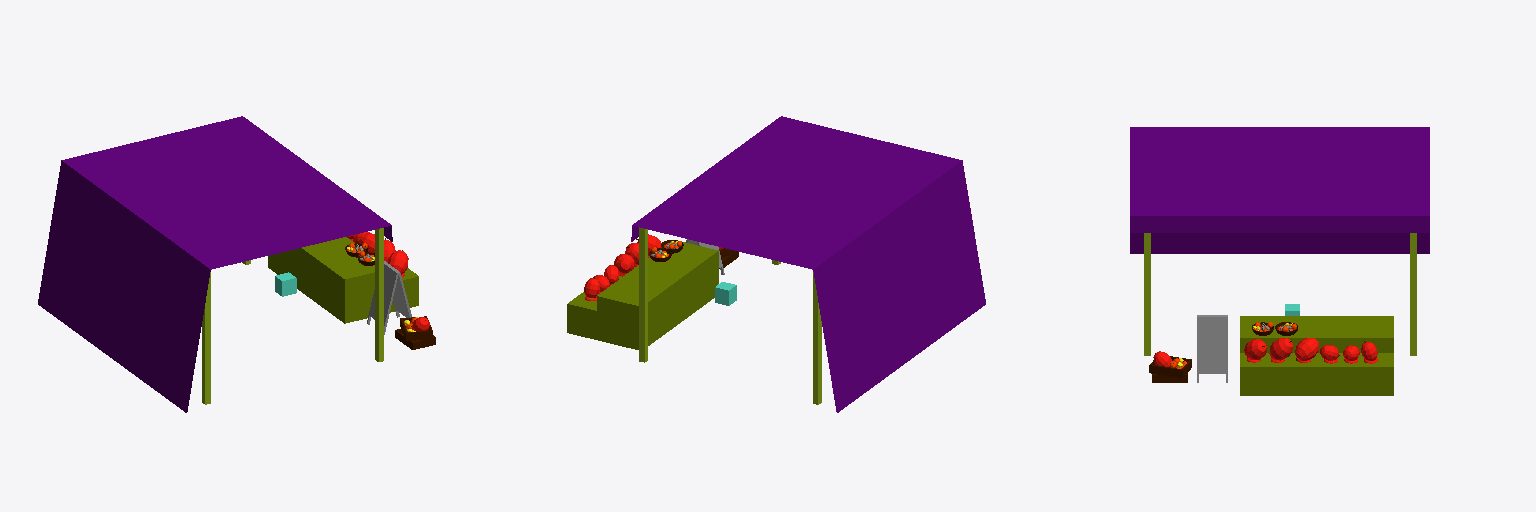
The model's file is shop_all.obj.
The picture shows the model from 3 angles: view 1: azimuth 30°, elevation 25°; view 2: azimuth 150°, elevation 25°; view 3: azimuth 270°, elevation 25°; orthographic projection.
Parts seen in each view (by area): view 1: Plane001, Box001, panel, Box003, fruitbox, Box056; view 2: Plane001, Box001, Box055, Box057; view 3: Plane001, Box001, panel, fruitbox, Box003, Box055.
Boxes of the visible parts, x1=… form: Plane001: x1=38, y1=116, x2=392, y2=412; Box001: x1=268, y1=237, x2=418, y2=323; panel: x1=367, y1=261, x2=411, y2=334; Box003: x1=375, y1=228, x2=383, y2=361; fruitbox: x1=395, y1=316, x2=435, y2=349; Box056: x1=202, y1=272, x2=210, y2=404; Plane001: x1=631, y1=116, x2=985, y2=412; Box001: x1=567, y1=241, x2=718, y2=349; Box055: x1=639, y1=227, x2=647, y2=362; Box057: x1=813, y1=272, x2=821, y2=404; Plane001: x1=1130, y1=127, x2=1429, y2=253; Box001: x1=1240, y1=316, x2=1393, y2=395; panel: x1=1197, y1=315, x2=1227, y2=382; fruitbox: x1=1149, y1=351, x2=1191, y2=382; Box003: x1=1144, y1=233, x2=1150, y2=355; Box055: x1=1410, y1=233, x2=1416, y2=355.
Size of the model in its own units: 244 by 114 by 220.